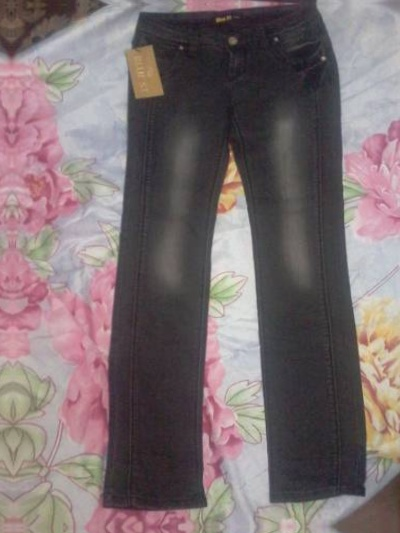Pants: (93, 12, 384, 511)
